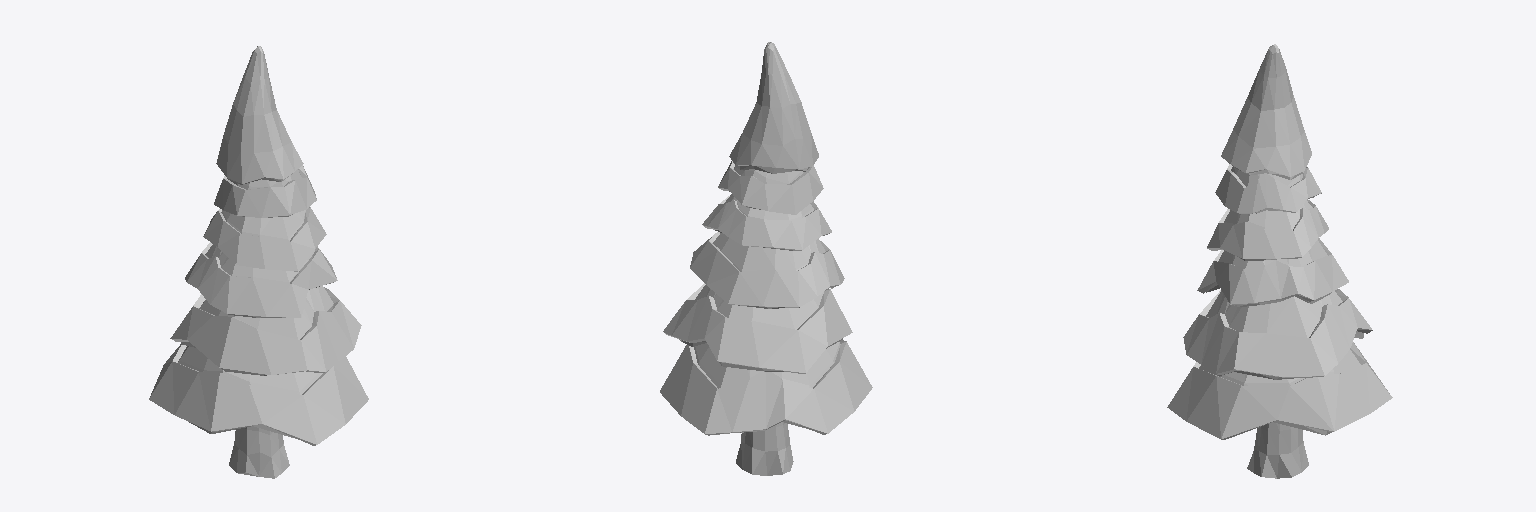
Rendered from pine_tree_2_snow.obj.
3 views of the same model, side by side, from view 1: azimuth 30°, elevation 25°; view 2: azimuth 150°, elevation 25°; view 3: azimuth 270°, elevation 25° (orthographic).
Parts seen in each view (by area): view 1: pine_tree_2_snow_snow, pine_tree_2_snow; view 2: pine_tree_2_snow_snow, pine_tree_2_snow; view 3: pine_tree_2_snow_snow, pine_tree_2_snow.
Part boxes in pixels (left/top/right/bottom): pine_tree_2_snow_snow: left=149, top=46, right=368, bottom=445; pine_tree_2_snow: left=178, top=169, right=333, bottom=478; pine_tree_2_snow_snow: left=660, top=42, right=872, bottom=435; pine_tree_2_snow: left=679, top=162, right=842, bottom=475; pine_tree_2_snow_snow: left=1167, top=44, right=1392, bottom=439; pine_tree_2_snow: left=1199, top=162, right=1363, bottom=478.
Bounding box in the file's own units: 2.34 × 5.63 × 2.71.